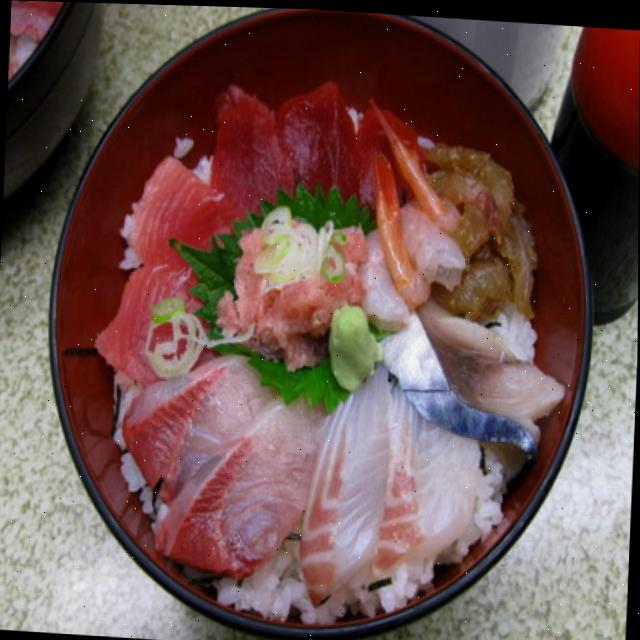刺身生食: (65, 16, 581, 633)
